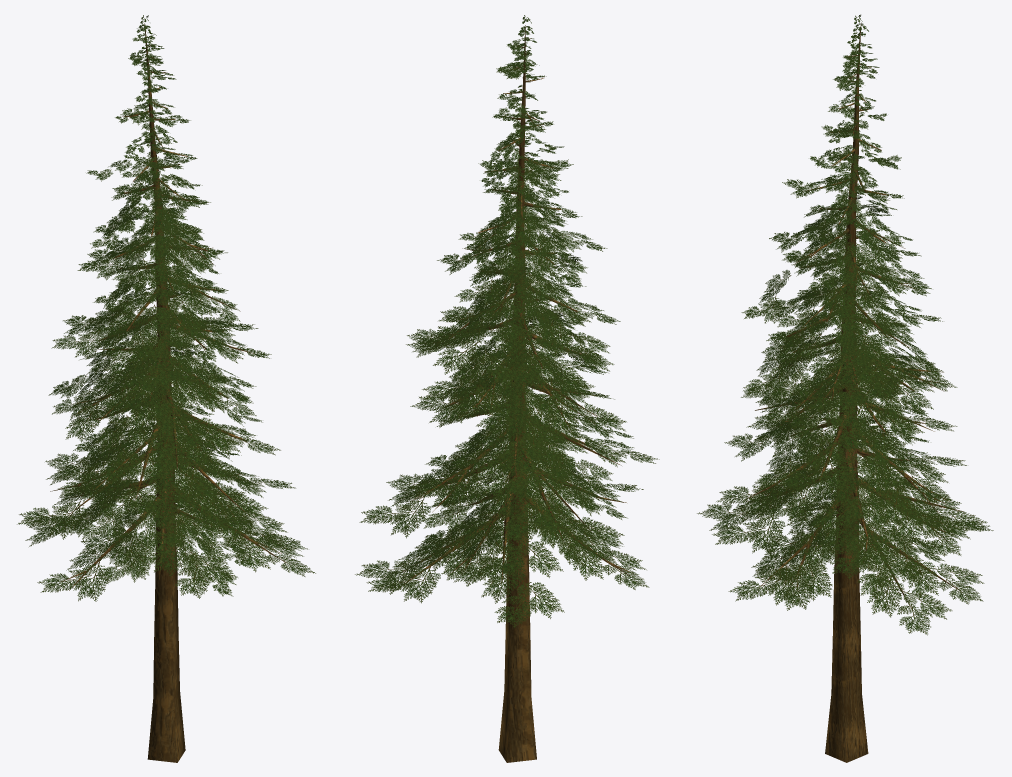
Rendered from PinoAndino.fbx.
3 views of the same model, side by side, from view 1: azimuth 30°, elevation 25°; view 2: azimuth 150°, elevation 25°; view 3: azimuth 270°, elevation 25° (orthographic). The views are drawn at different scales.
Parts seen in each view (by area): view 1: pino_hojas_low117; view 2: pino_hojas_low117; view 3: pino_hojas_low117.
Boxes of the visible parts, x1,y1,x2,y2 form: pino_hojas_low117: (17, 15, 315, 762); pino_hojas_low117: (355, 15, 659, 762); pino_hojas_low117: (697, 14, 993, 762).
Size of the model in its own units: 798 by 2130 by 808.
